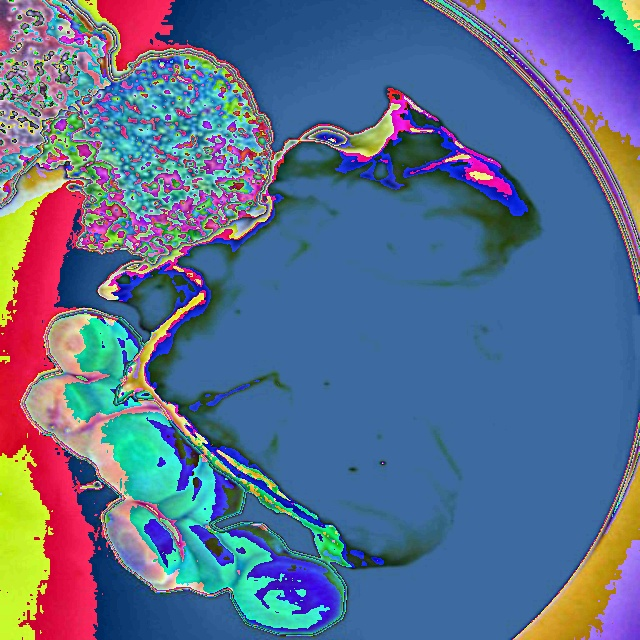background: (0, 0, 600, 638)
